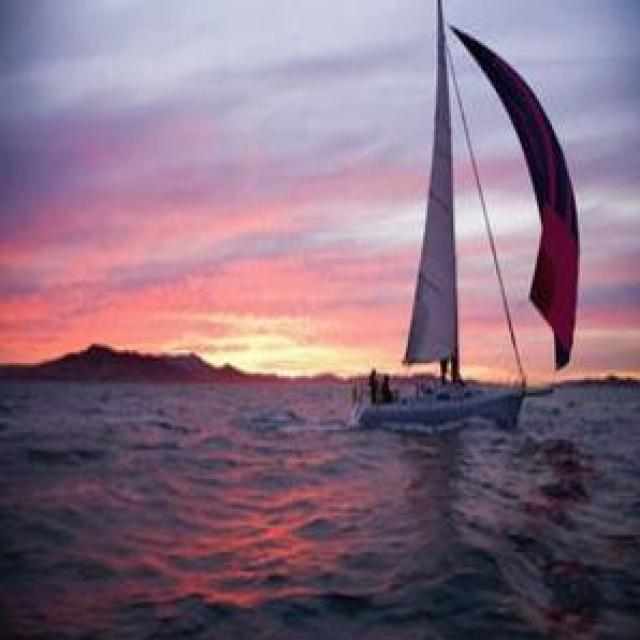sailboat: (346, 0, 580, 427)
